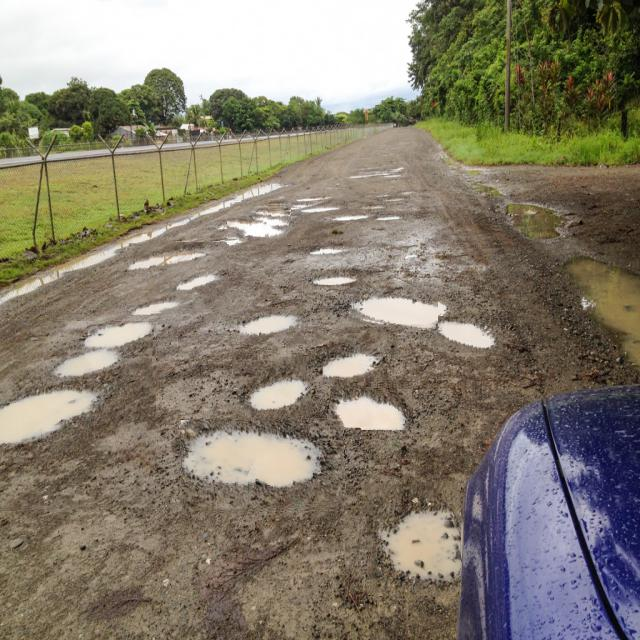Pothole: (0, 321, 155, 512), (180, 419, 345, 514), (367, 482, 461, 596), (127, 242, 229, 313), (234, 357, 311, 420), (351, 278, 438, 330), (329, 383, 413, 430), (315, 333, 387, 382), (227, 203, 291, 244), (433, 319, 503, 356), (237, 308, 304, 344), (310, 229, 358, 264)
